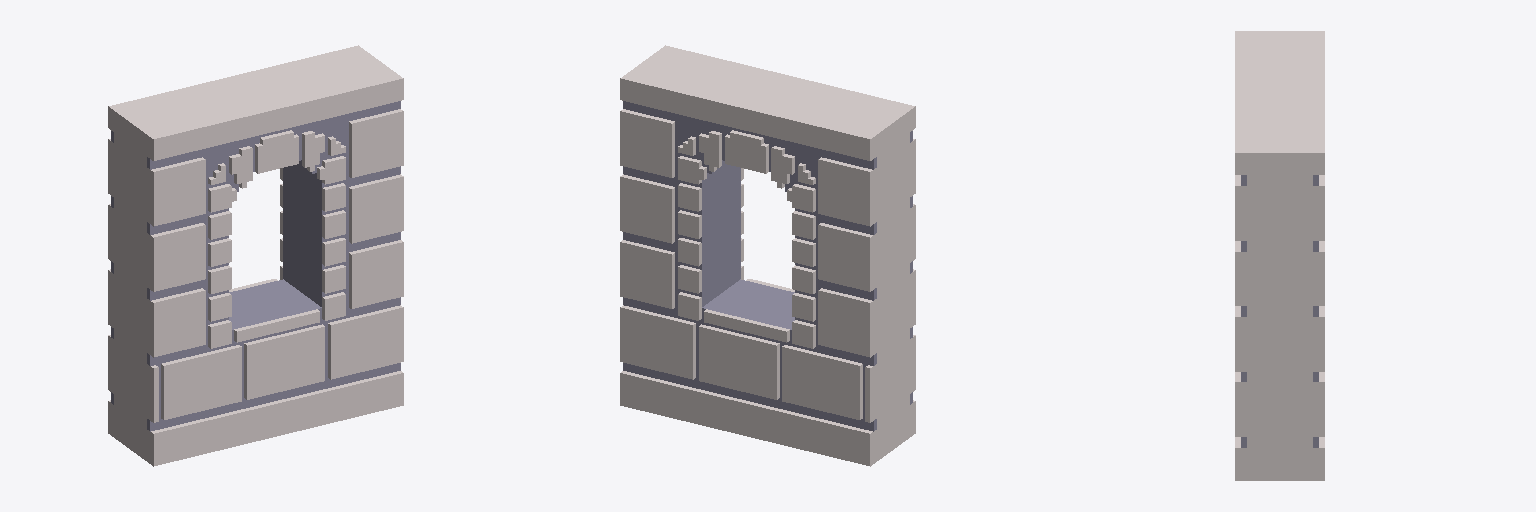
3 views of the same model, side by side, from view 1: azimuth 30°, elevation 25°; view 2: azimuth 150°, elevation 25°; view 3: azimuth 270°, elevation 25° (orthographic).
Visible parts, largest first — view 1: object 1; view 2: object 1; view 3: object 1.
Part boxes in pixels (bbox=[...]): object 1: bbox=[108, 45, 403, 466]; object 1: bbox=[620, 45, 915, 466]; object 1: bbox=[1235, 31, 1324, 480].
Size of the model in its own units: 4.8 by 6 by 1.5.
1 materials, 1 textured.